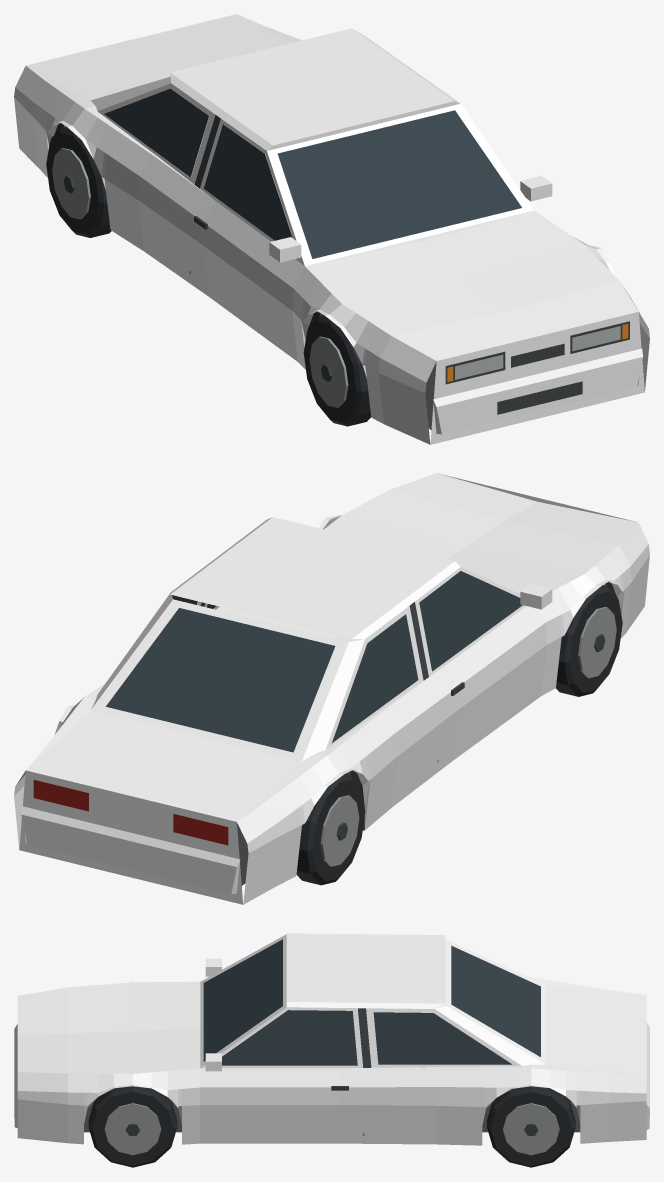
File: rauhe_fink_gt.glb
3 renders of one model, top to bottom at view 1: azimuth 30°, elevation 25°; view 2: azimuth 150°, elevation 25°; view 3: azimuth 270°, elevation 25°, orthographic. The views are drawn at different scales.
Visible parts, largest first — view 1: rauhe_fink_gt; view 2: rauhe_fink_gt; view 3: rauhe_fink_gt.
Boxes of the visible parts, bbox=[...] form: rauhe_fink_gt: bbox=[14, 14, 649, 444]; rauhe_fink_gt: bbox=[14, 473, 649, 904]; rauhe_fink_gt: bbox=[14, 933, 649, 1167].
Bounding box in the file's own units: 1.81 × 1.22 × 4.66.
8 materials, 1 textured.
